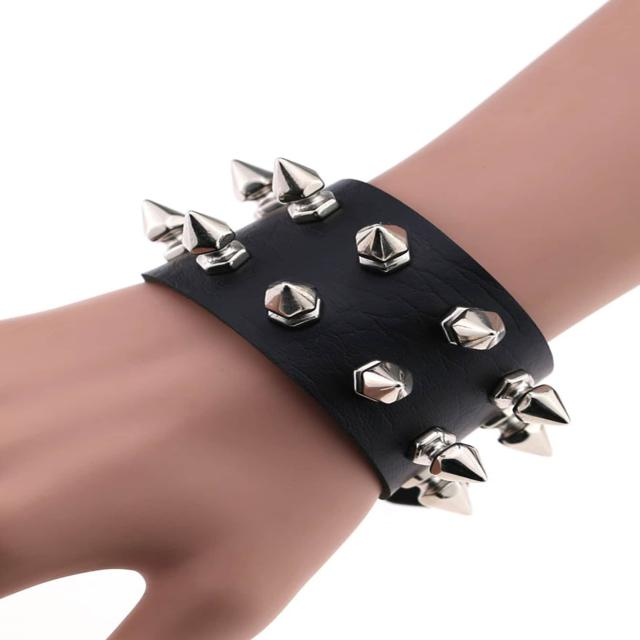bracelet: (115, 97, 640, 584)
